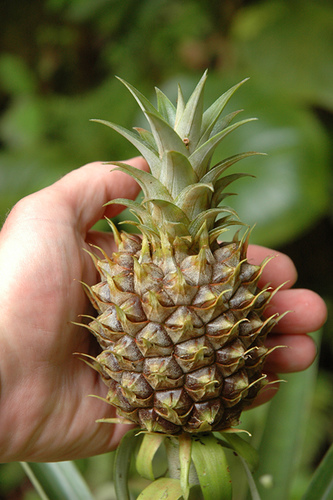pineapple: (75, 66, 285, 440)
